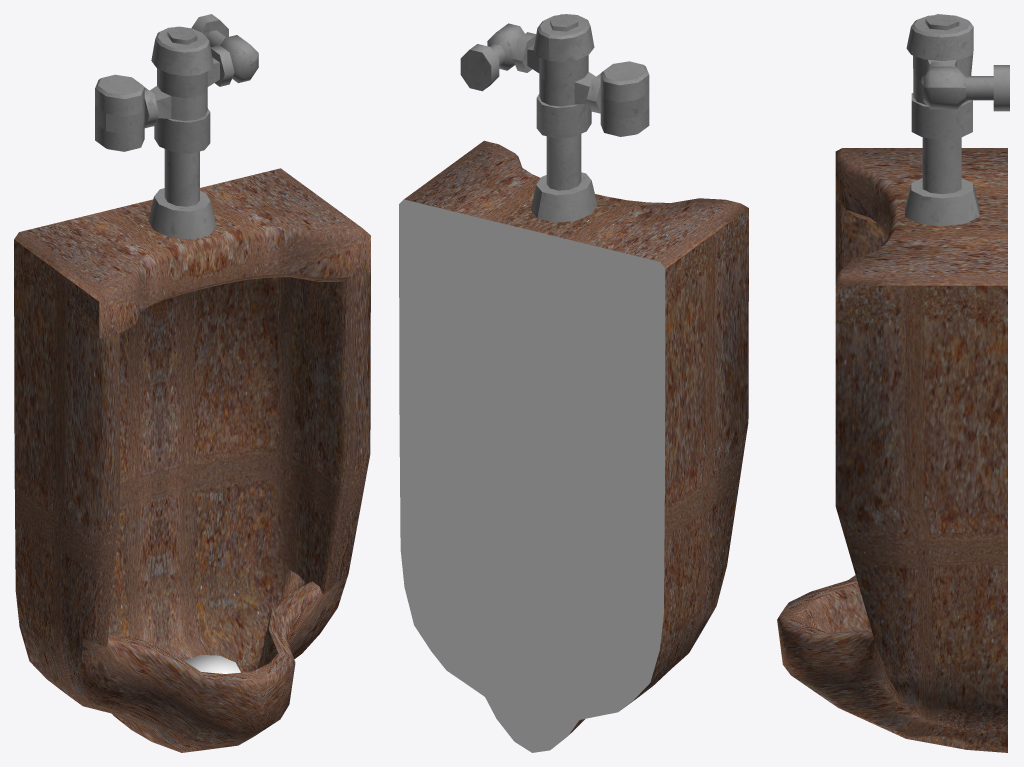
File: urinario.glb
The picture shows the model from 3 angles, left to right: view 1: azimuth 30°, elevation 25°; view 2: azimuth 150°, elevation 25°; view 3: azimuth 270°, elevation 25°; orthographic projection. The views are drawn at different scales.
Visible parts, largest first — view 1: Object_15.018, Object_15.021, Object_15.025, Object_15.019; view 2: Object_15.020, Object_15.018, Object_15.025, Object_15.021; view 3: Object_15.018, Object_15.021, Object_15.025.
Part boxes in pixels (x1,y1,x2,y2): Object_15.018: (14, 239, 370, 752); Object_15.021: (14, 168, 370, 338); Object_15.025: (95, 14, 258, 239); Object_15.019: (184, 655, 240, 673); Object_15.020: (399, 199, 665, 752); Object_15.018: (569, 208, 748, 734); Object_15.025: (460, 14, 649, 222); Object_15.021: (404, 140, 748, 268); Object_15.018: (777, 199, 1007, 752); Object_15.021: (835, 148, 1007, 285); Object_15.025: (905, 14, 1009, 226).
Bounding box in the file's own units: 0.3434 × 0.8729 × 0.2519.
3 materials, 2 textured.
